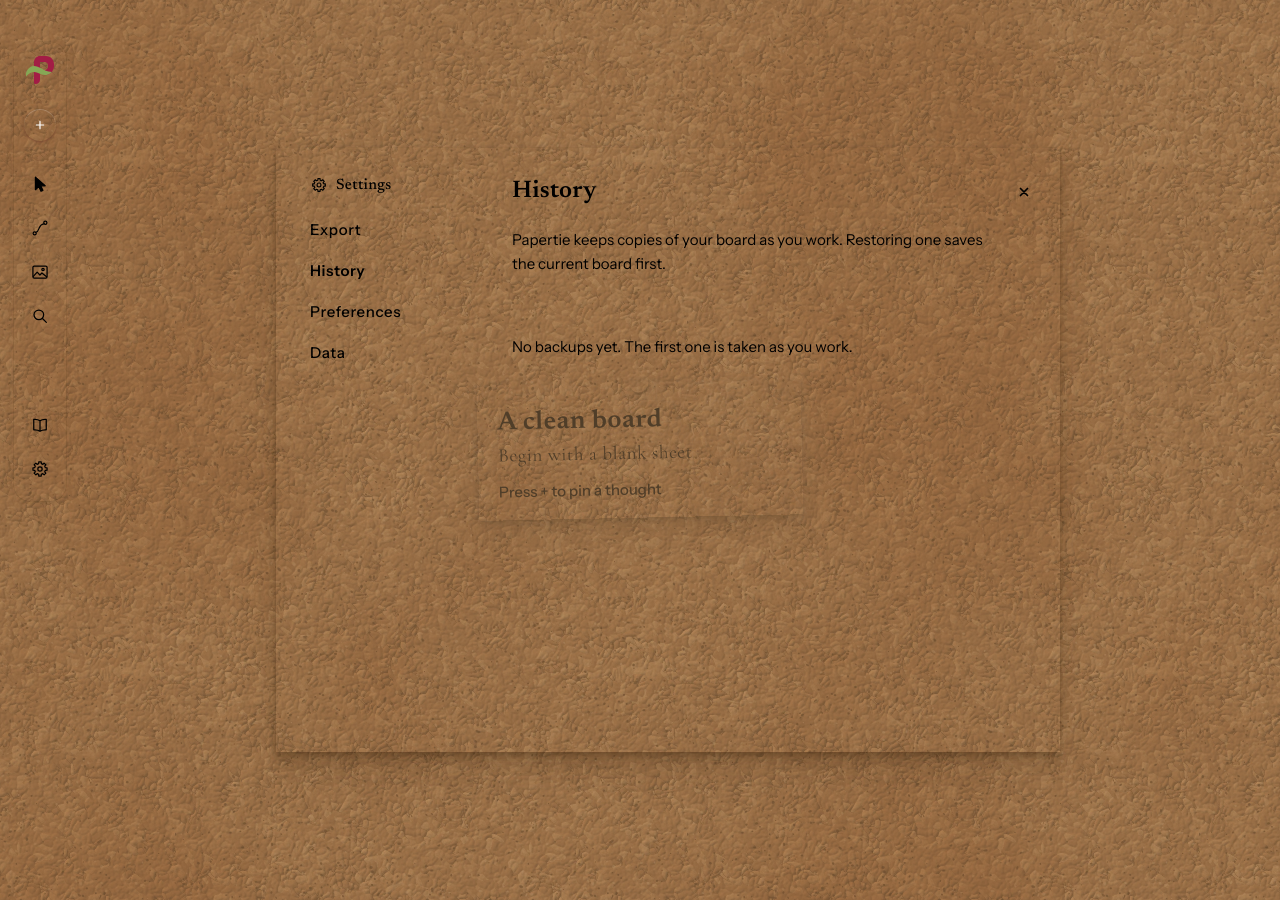
Test: The sidebar stays usable under Settings › the save dot opens its popover without closing Settings
Expected: the dialog "Settings" is shown, [268,140,1068,760]
Click the button with class "save-dot": point(40, 385) [26,371,54,399]
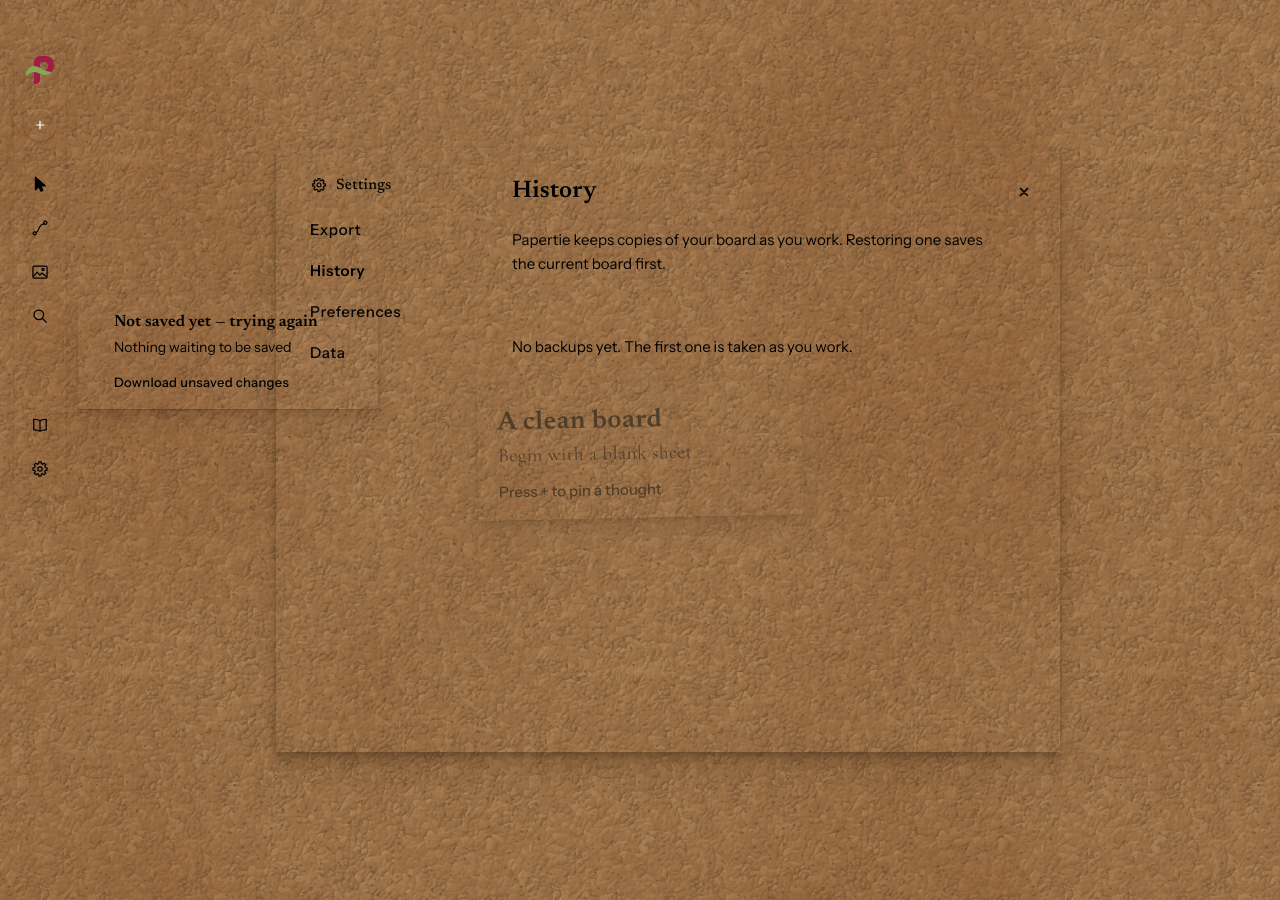
Now the dialog named "Save status" is shown, box [78,295,378,409]
